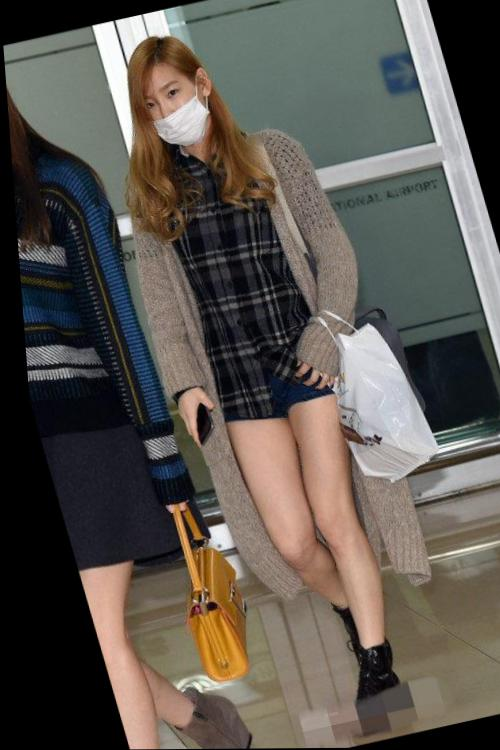WRONG: (131, 55, 210, 155)
